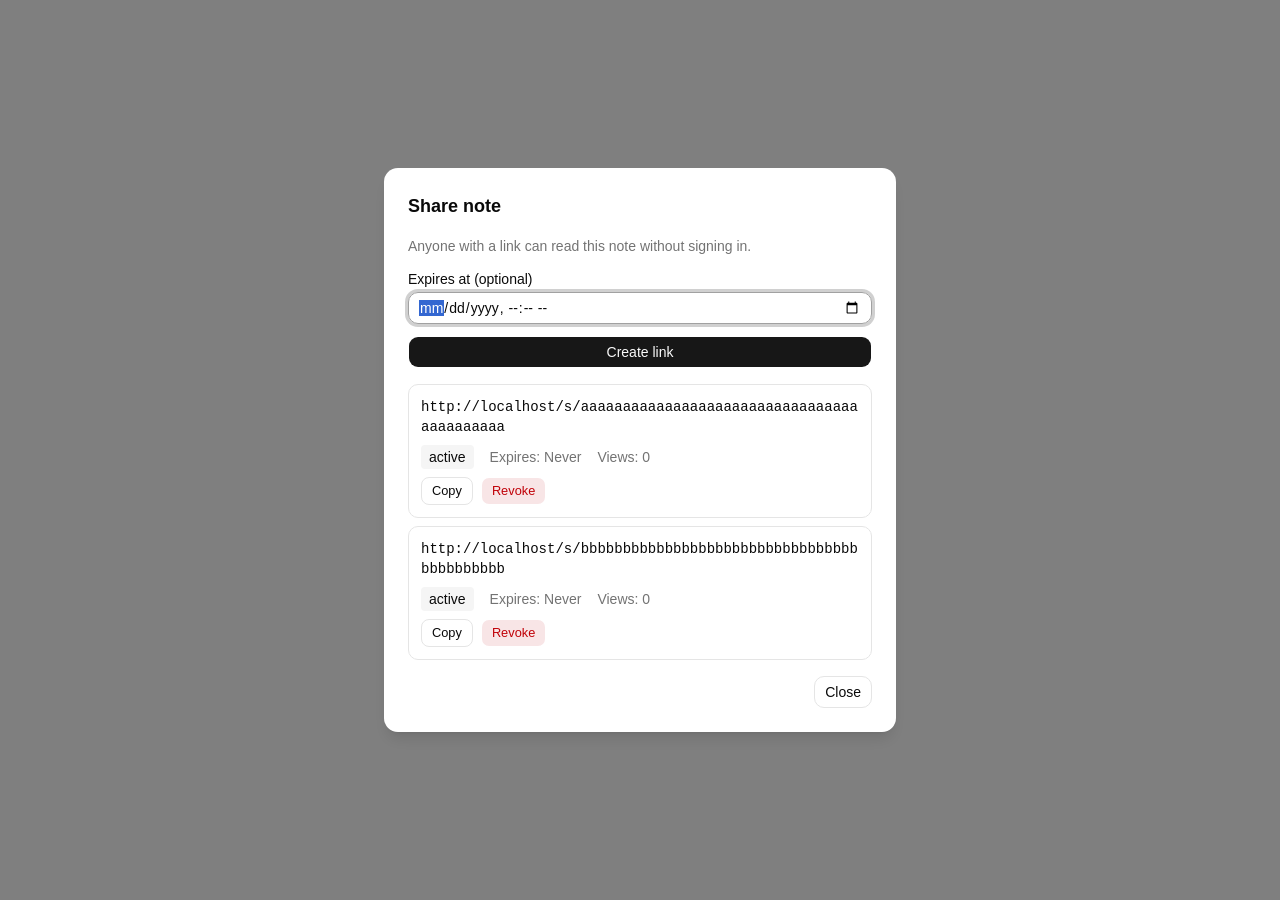
Test case: ShareModal › S-AB1014-02: revoke asks for confirmation and leaves other links active
This screenshot has width=1280, height=900.
Click the 1st button "Revoke" at (514, 491), box top-left (481, 477), bottom-right (546, 505)
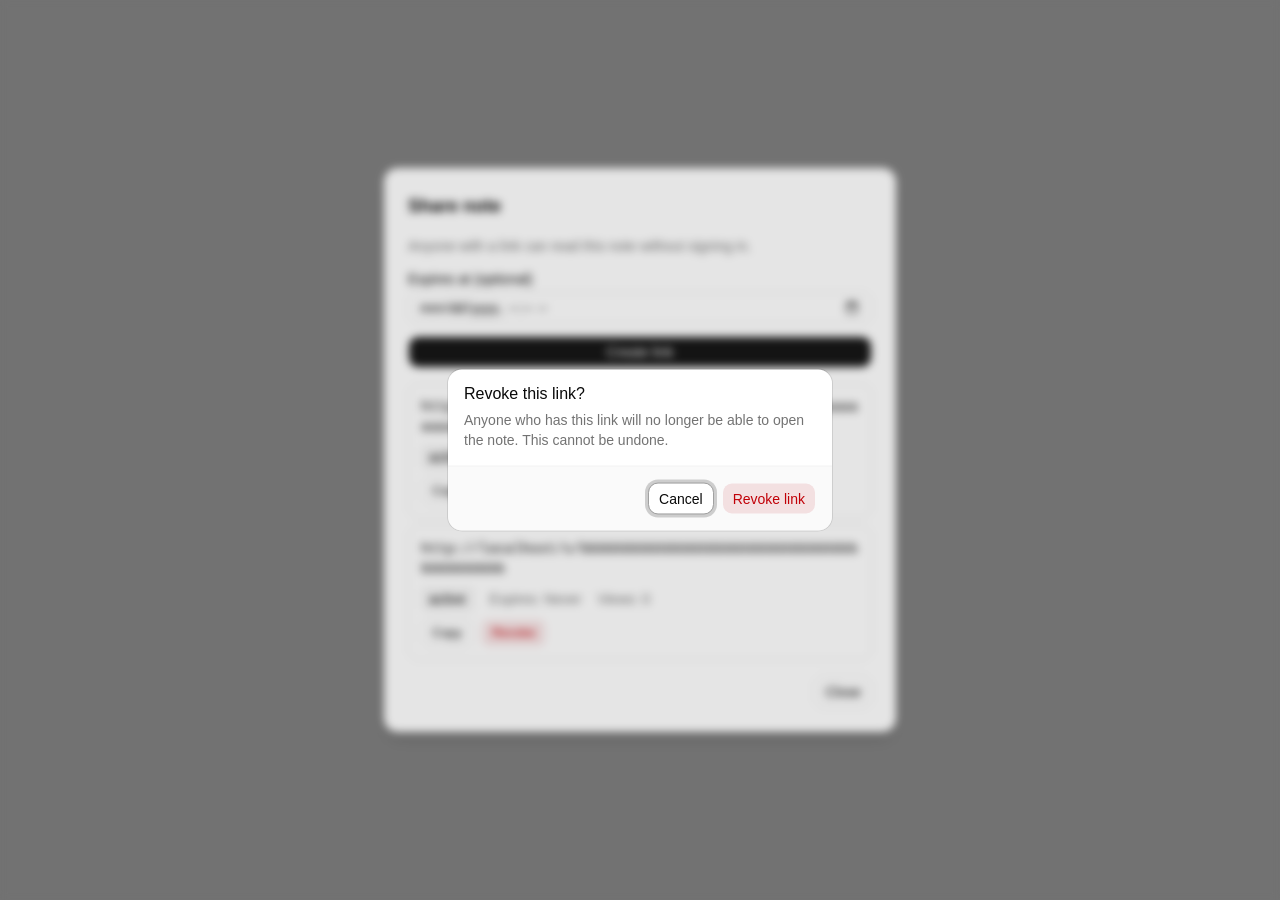
Click the button "Cancel" at (681, 498), box top-left (648, 482), bottom-right (714, 514)
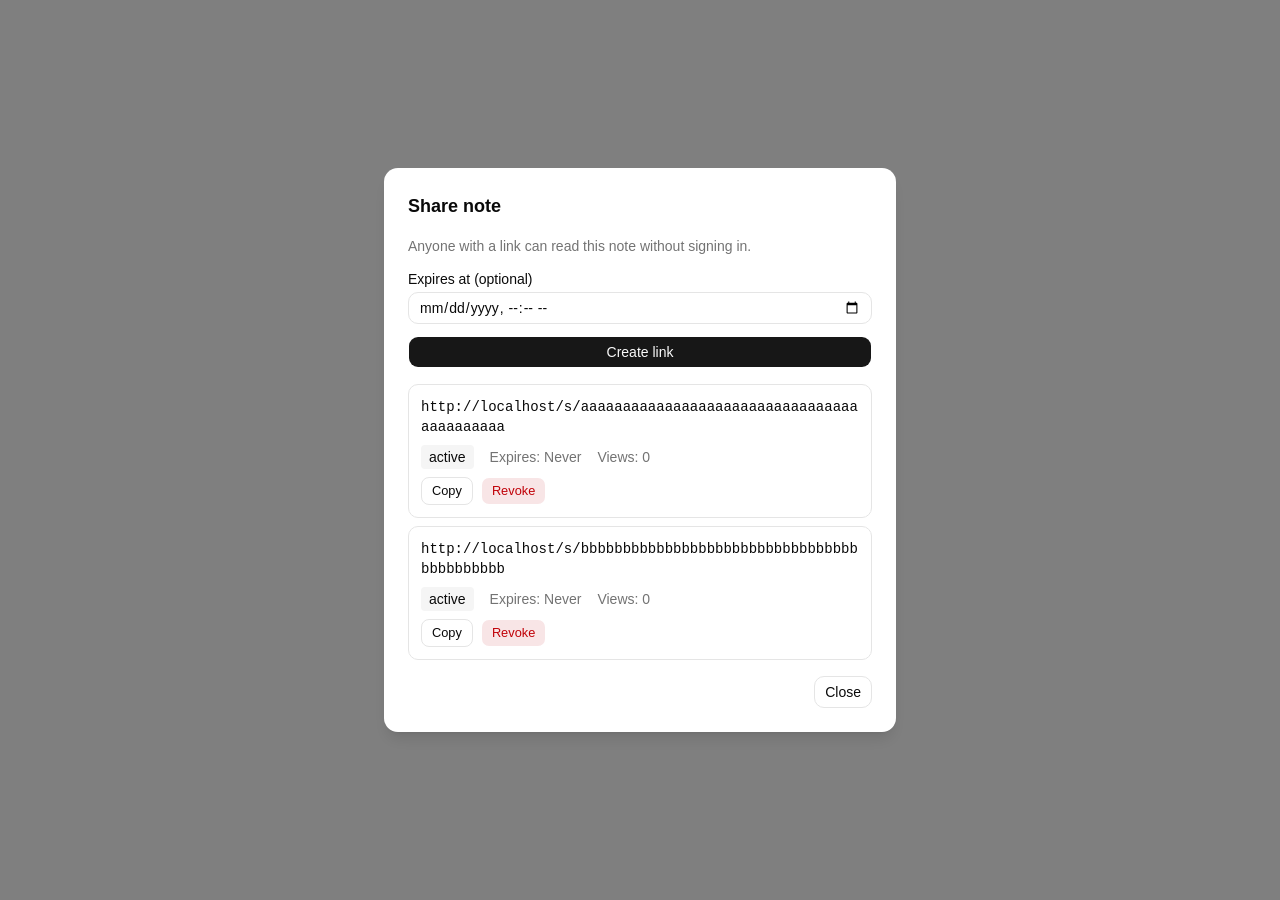
Expected: the text "active" is shown 2 times, top-left (421, 445), bottom-right (474, 469); top-left (421, 587), bottom-right (474, 611)
Click the 1st button "Revoke" at (514, 491), box top-left (481, 477), bottom-right (546, 505)
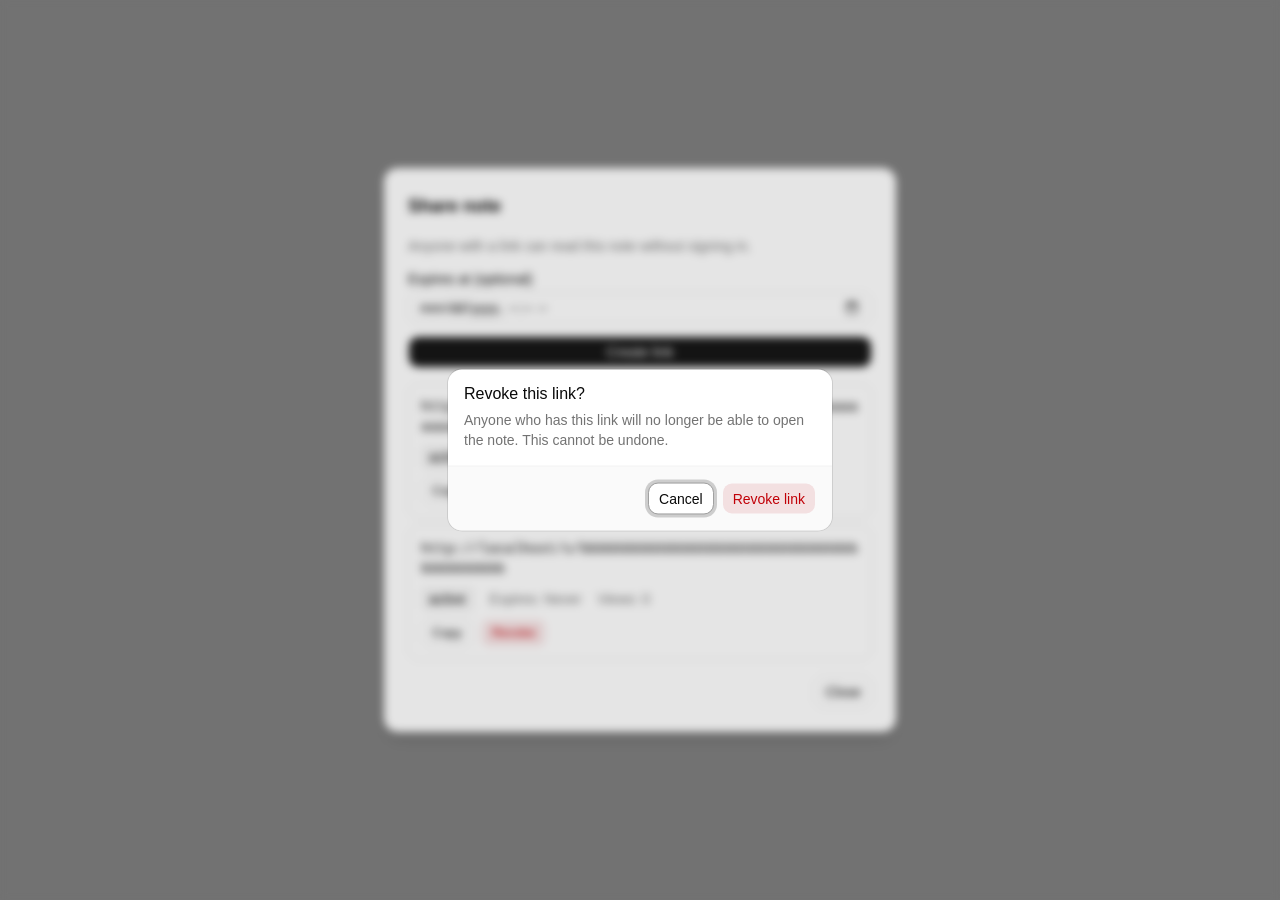
Click the button "Revoke link" at (769, 498), box top-left (722, 482), bottom-right (816, 514)
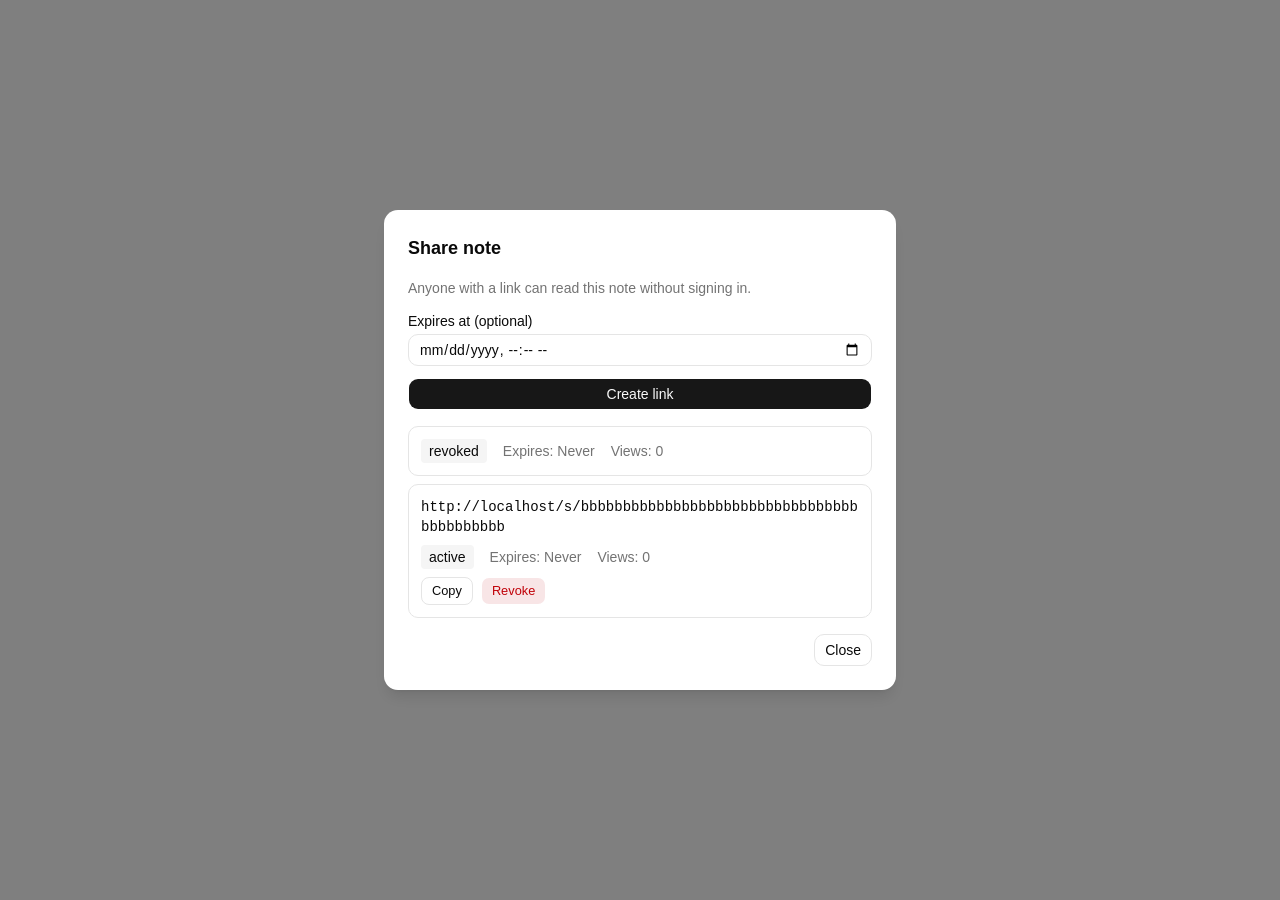
Expected: the text "active" is shown once, top-left (421, 545), bottom-right (474, 569)
Expected: the text "revoked" is shown, top-left (421, 439), bottom-right (487, 463)
Expected: the number of buttons "Revoke" is 1
Click the button "Revoke" at (514, 591), box top-left (481, 577), bottom-right (546, 605)
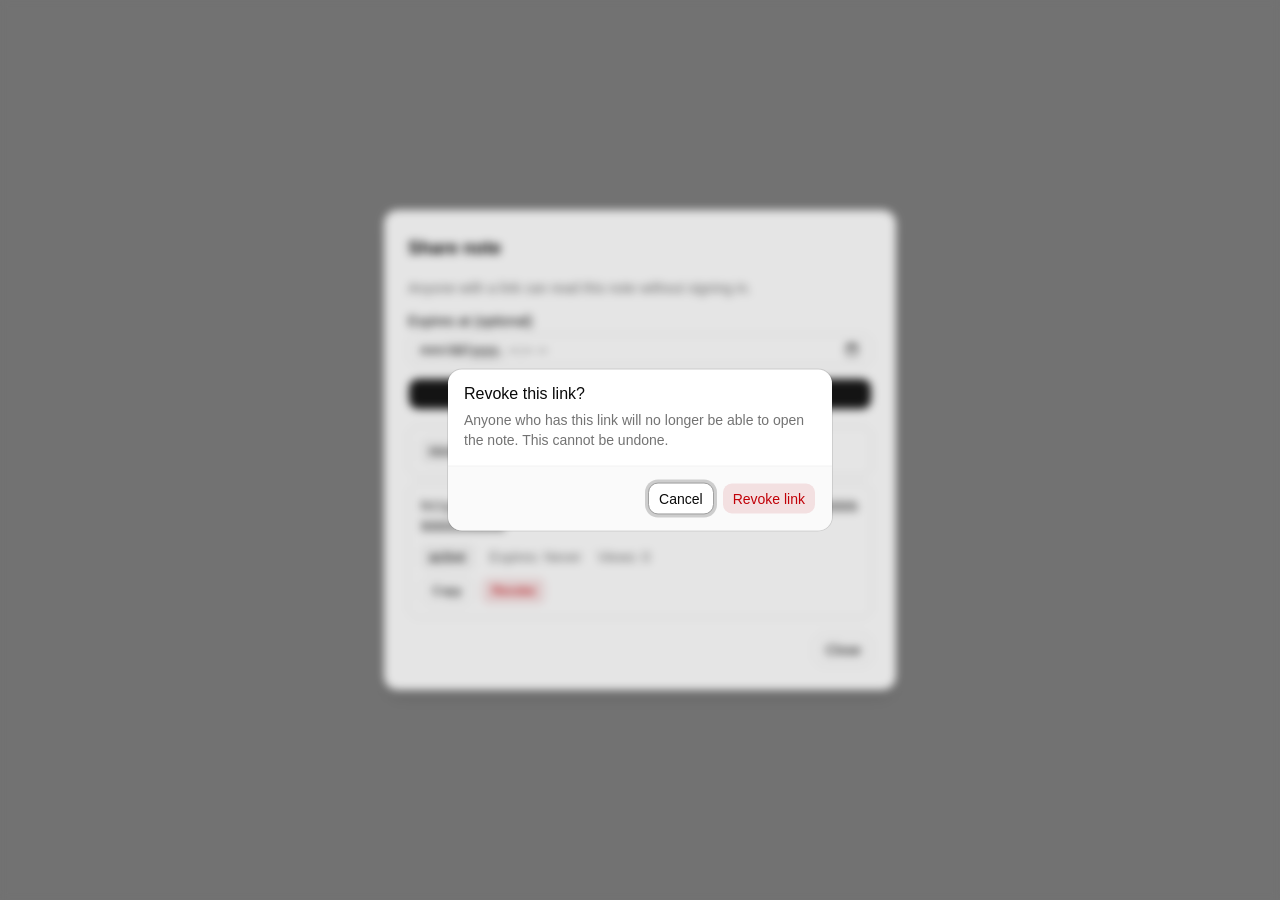
Click the button "Revoke link" at (769, 498), box top-left (722, 482), bottom-right (816, 514)
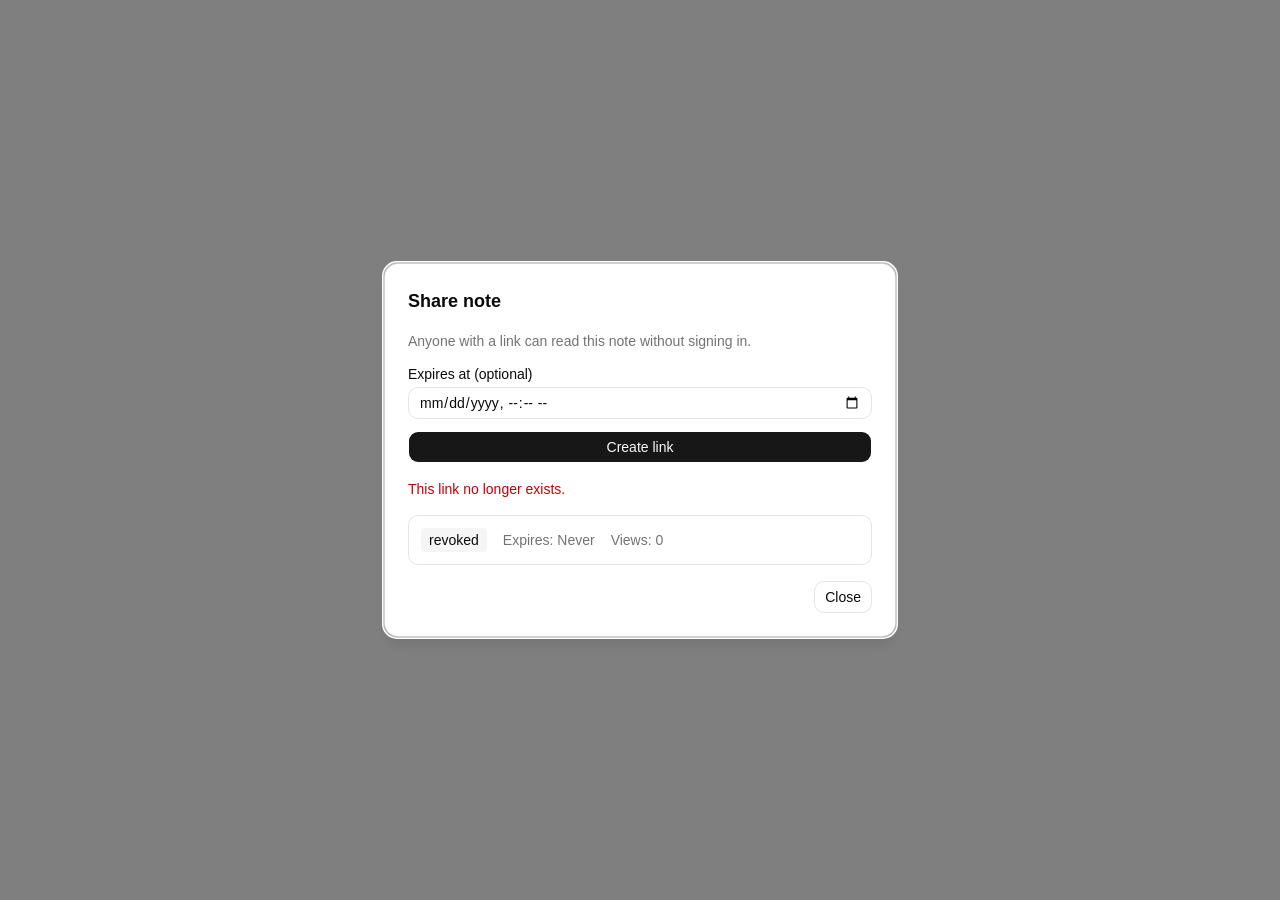
Expected: the text "This link no longer exists." is shown, top-left (408, 481), bottom-right (565, 497)
